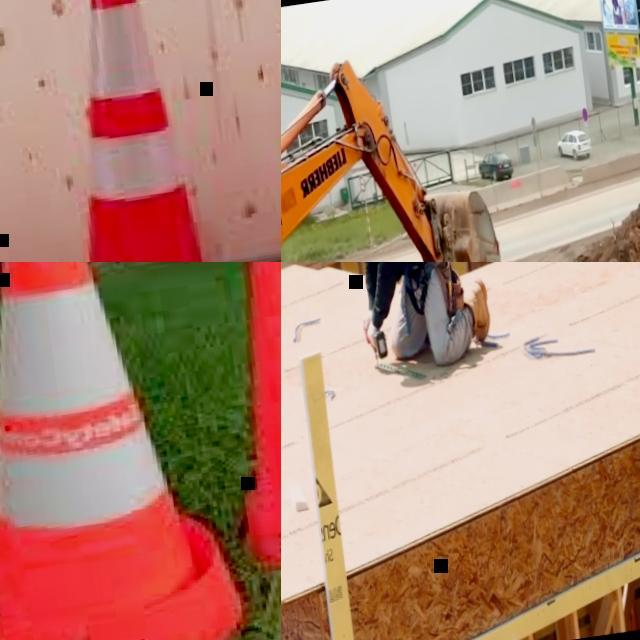machinery: (281, 37, 548, 262)
person: (334, 262, 497, 377)
safety_cone: (0, 262, 251, 640), (0, 0, 272, 262), (197, 262, 281, 568), (199, 0, 281, 262)
vehicle: (476, 150, 516, 186), (556, 128, 594, 164)
